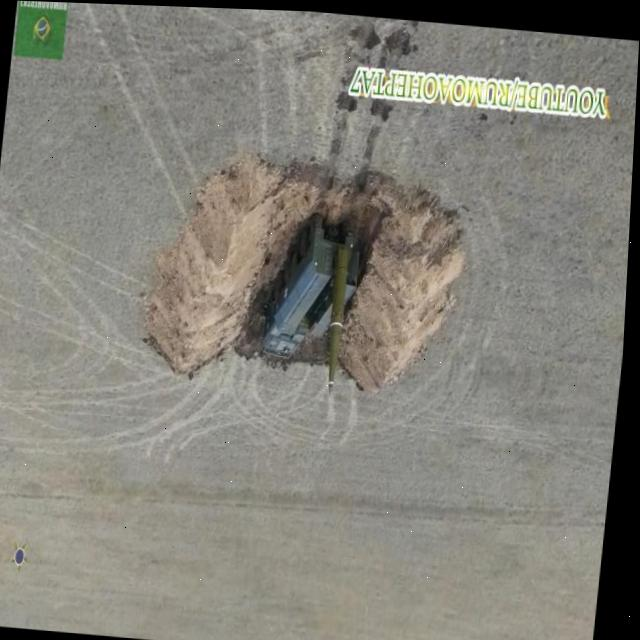missile: (316, 238, 357, 392)
